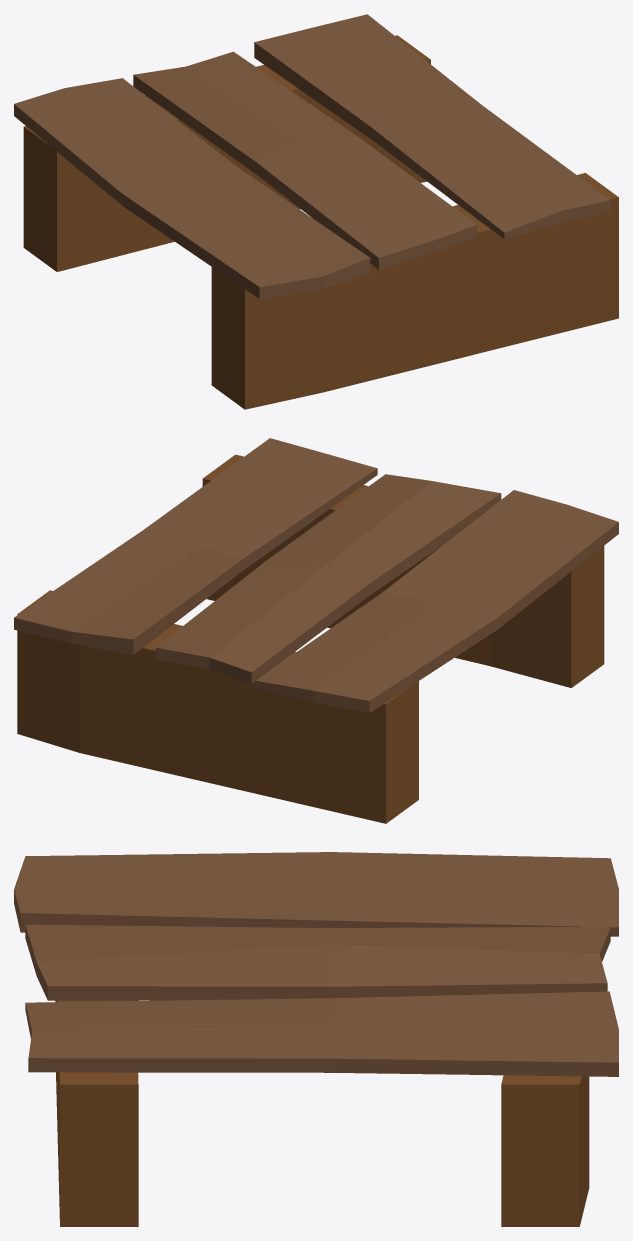
File: Wood_Pontoon_1.fbx
3 views of the same model, one above another, from view 1: azimuth 30°, elevation 25°; view 2: azimuth 150°, elevation 25°; view 3: azimuth 270°, elevation 25° (orthographic). The views are drawn at different scales.
Visible parts, largest first — view 1: Wood_Pontoon_1; view 2: Wood_Pontoon_1; view 3: Wood_Pontoon_1.
Part boxes in pixels (x1,y1,x2,y2): Wood_Pontoon_1: (14,14,618,409); Wood_Pontoon_1: (14,438,618,823); Wood_Pontoon_1: (14,852,618,1226).
Bounding box in the file's own units: 201 × 70.8 × 235.
